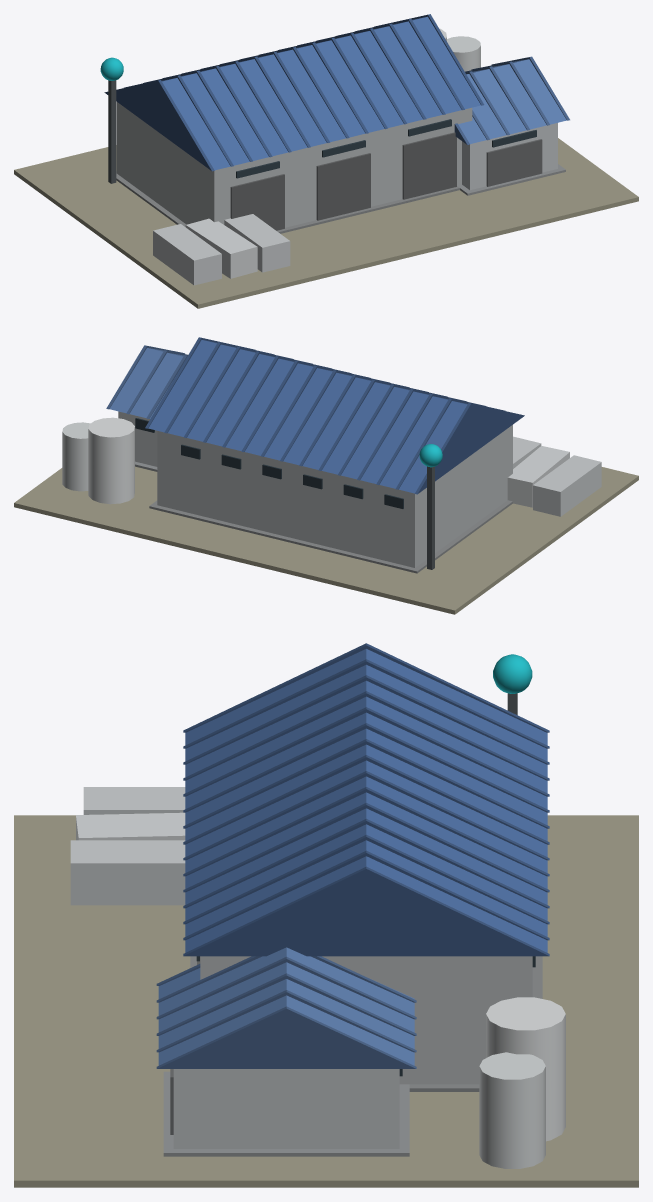
The model's file is forward_base.glb.
3 renders of one model, top to bottom at view 1: azimuth 30°, elevation 25°; view 2: azimuth 150°, elevation 25°; view 3: azimuth 270°, elevation 25°, orthographic. The views are drawn at different scales.
Visible parts, largest first — view 1: _MeshInstance3D_4, _MeshInstance3D_7, _MeshInstance3D_5, _MeshInstance3D_37, _MeshInstance3D_8, _MeshInstance3D_25, _MeshInstance3D_27, _MeshInstance3D_48, _MeshInstance3D_35, _MeshInstance3D_23, _MeshInstance3D_49, _MeshInstance3D_50 (+20 smaller); view 2: _MeshInstance3D_5, _MeshInstance3D_4, _MeshInstance3D_7, _MeshInstance3D_51, _MeshInstance3D_8, _MeshInstance3D_48, _MeshInstance3D_37, _MeshInstance3D_6, _MeshInstance3D_49, _MeshInstance3D_52, _MeshInstance3D_35, _MeshInstance3D_53 (+16 smaller); view 3: _MeshInstance3D_4, _MeshInstance3D_7, _MeshInstance3D_35, _MeshInstance3D_22, _MeshInstance3D_5, _MeshInstance3D_37, _MeshInstance3D_43, _MeshInstance3D_50, _MeshInstance3D_52, _MeshInstance3D_51, _MeshInstance3D_36, _MeshInstance3D_49 (+21 smaller).
Boxes of the visible parts, x1=… form: _MeshInstance3D_4: x1=14, y1=138, x2=638, y2=308; _MeshInstance3D_7: x1=162, y1=16, x2=480, y2=170; _MeshInstance3D_5: x1=116, y1=102, x2=472, y2=227; _MeshInstance3D_37: x1=458, y1=59, x2=566, y2=143; _MeshInstance3D_8: x1=104, y1=80, x2=214, y2=171; _MeshInstance3D_25: x1=316, y1=153, x2=370, y2=220; _MeshInstance3D_27: x1=402, y1=132, x2=456, y2=199; _MeshInstance3D_48: x1=153, y1=224, x2=221, y2=285; _MeshInstance3D_35: x1=462, y1=123, x2=557, y2=190; _MeshInstance3D_23: x1=230, y1=174, x2=284, y2=230; _MeshInstance3D_49: x1=185, y1=218, x2=257, y2=278; _MeshInstance3D_50: x1=224, y1=214, x2=290, y2=272; _MeshInstance3D_5: x1=157, y1=425, x2=512, y2=567; _MeshInstance3D_4: x1=14, y1=466, x2=638, y2=614; _MeshInstance3D_7: x1=148, y1=340, x2=467, y2=493; _MeshInstance3D_51: x1=88, y1=417, x2=134, y2=504; _MeshInstance3D_8: x1=415, y1=403, x2=524, y2=494; _MeshInstance3D_48: x1=533, y1=455, x2=601, y2=516; _MeshInstance3D_37: x1=109, y1=348, x2=183, y2=418; _MeshInstance3D_6: x1=149, y1=500, x2=512, y2=573; _MeshInstance3D_49: x1=507, y1=446, x2=569, y2=507; _MeshInstance3D_52: x1=62, y1=422, x2=90, y2=491; _MeshInstance3D_35: x1=118, y1=411, x2=157, y2=466; _MeshInstance3D_53: x1=427, y1=466, x2=434, y2=569; _MeshInstance3D_4: x1=14, y1=815, x2=638, y2=1187; _MeshInstance3D_7: x1=185, y1=649, x2=547, y2=952; _MeshInstance3D_35: x1=173, y1=1069, x2=399, y2=1148; _MeshInstance3D_22: x1=183, y1=866, x2=549, y2=956; _MeshInstance3D_5: x1=200, y1=956, x2=532, y2=1084; _MeshInstance3D_37: x1=158, y1=947, x2=414, y2=1065; _MeshInstance3D_43: x1=156, y1=1006, x2=416, y2=1068; _MeshInstance3D_50: x1=70, y1=840, x2=185, y2=905; _MeshInstance3D_52: x1=479, y1=1052, x2=545, y2=1168; _MeshInstance3D_51: x1=486, y1=997, x2=565, y2=1141; _MeshInstance3D_36: x1=163, y1=1071, x2=409, y2=1156; _MeshInstance3D_49: x1=76, y1=812, x2=185, y2=840.
Bounding box in the file's own units: 13 × 3.85 × 9.4.
